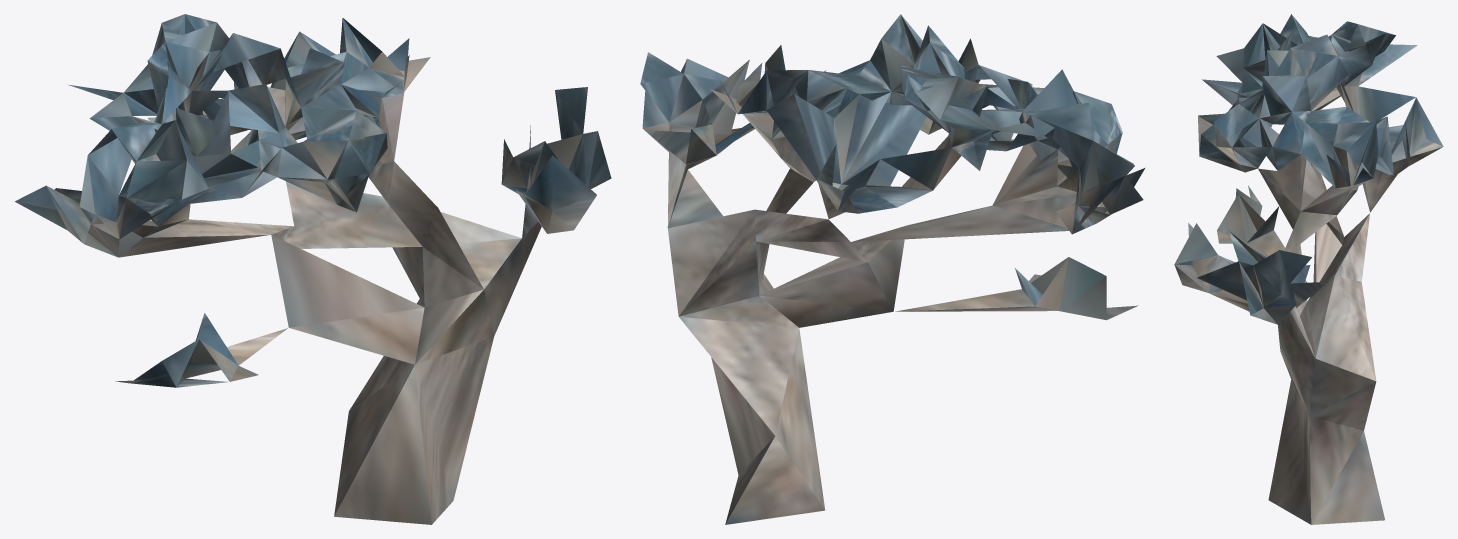
Rendered from fc_windpruned_paddleleaf_tree_lod2.glb.
The picture shows the model from 3 angles, left to right: view 1: azimuth 30°, elevation 25°; view 2: azimuth 150°, elevation 25°; view 3: azimuth 270°, elevation 25°; orthographic projection. The views are drawn at different scales.
Parts seen in each view (by area): view 1: mesh; view 2: mesh; view 3: mesh.
Part boxes in pixels (x1,y1,x2,y2): mesh: (15, 14, 611, 524); mesh: (640, 14, 1145, 524); mesh: (1174, 14, 1443, 524).
Size of the model in its own units: 1.59 by 1.44 by 0.8438.
1 material, 1 textured.
